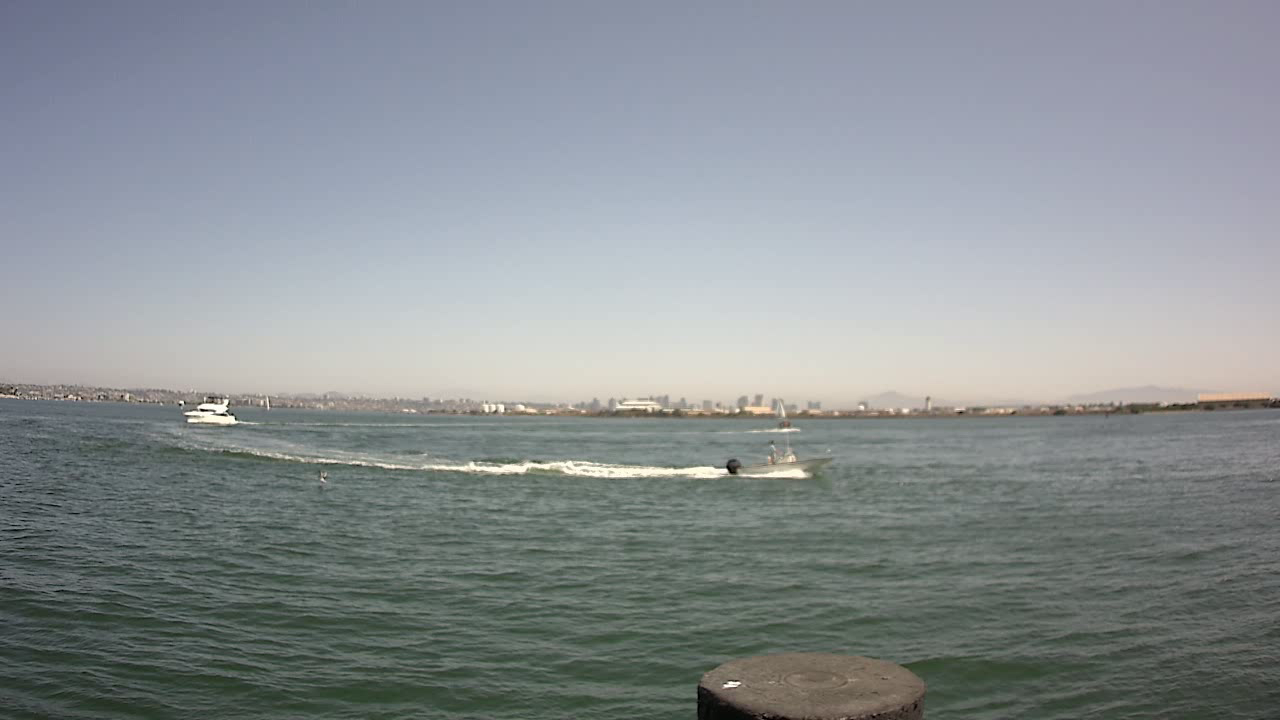target: (716, 420, 840, 486)
